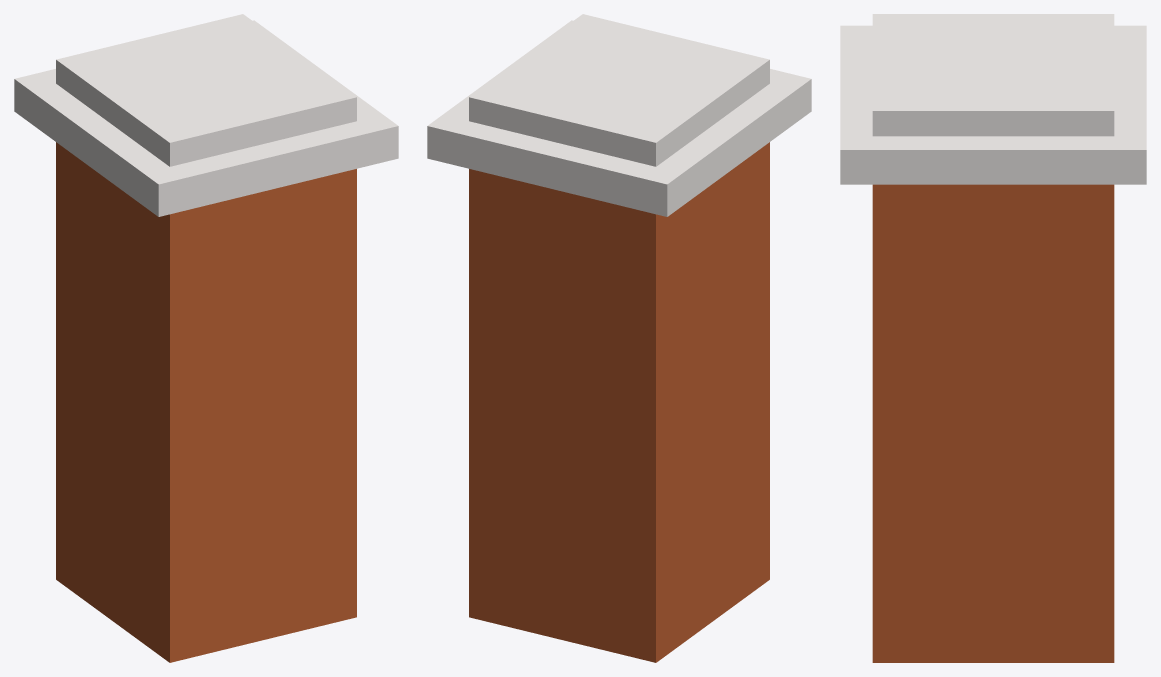
The model's file is wallPost.fbx.
3 renders of one model, left to right at view 1: azimuth 30°, elevation 25°; view 2: azimuth 150°, elevation 25°; view 3: azimuth 270°, elevation 25°, orthographic. The views are drawn at different scales.
Parts seen in each view (by area): view 1: WallPost; view 2: WallPost; view 3: WallPost.
Boxes of the visible parts, x1=… form: WallPost: x1=14, y1=14, x2=398, y2=662; WallPost: x1=427, y1=14, x2=811, y2=662; WallPost: x1=840, y1=14, x2=1146, y2=662.
Bounding box in the file's own units: 128 × 266 × 134.
